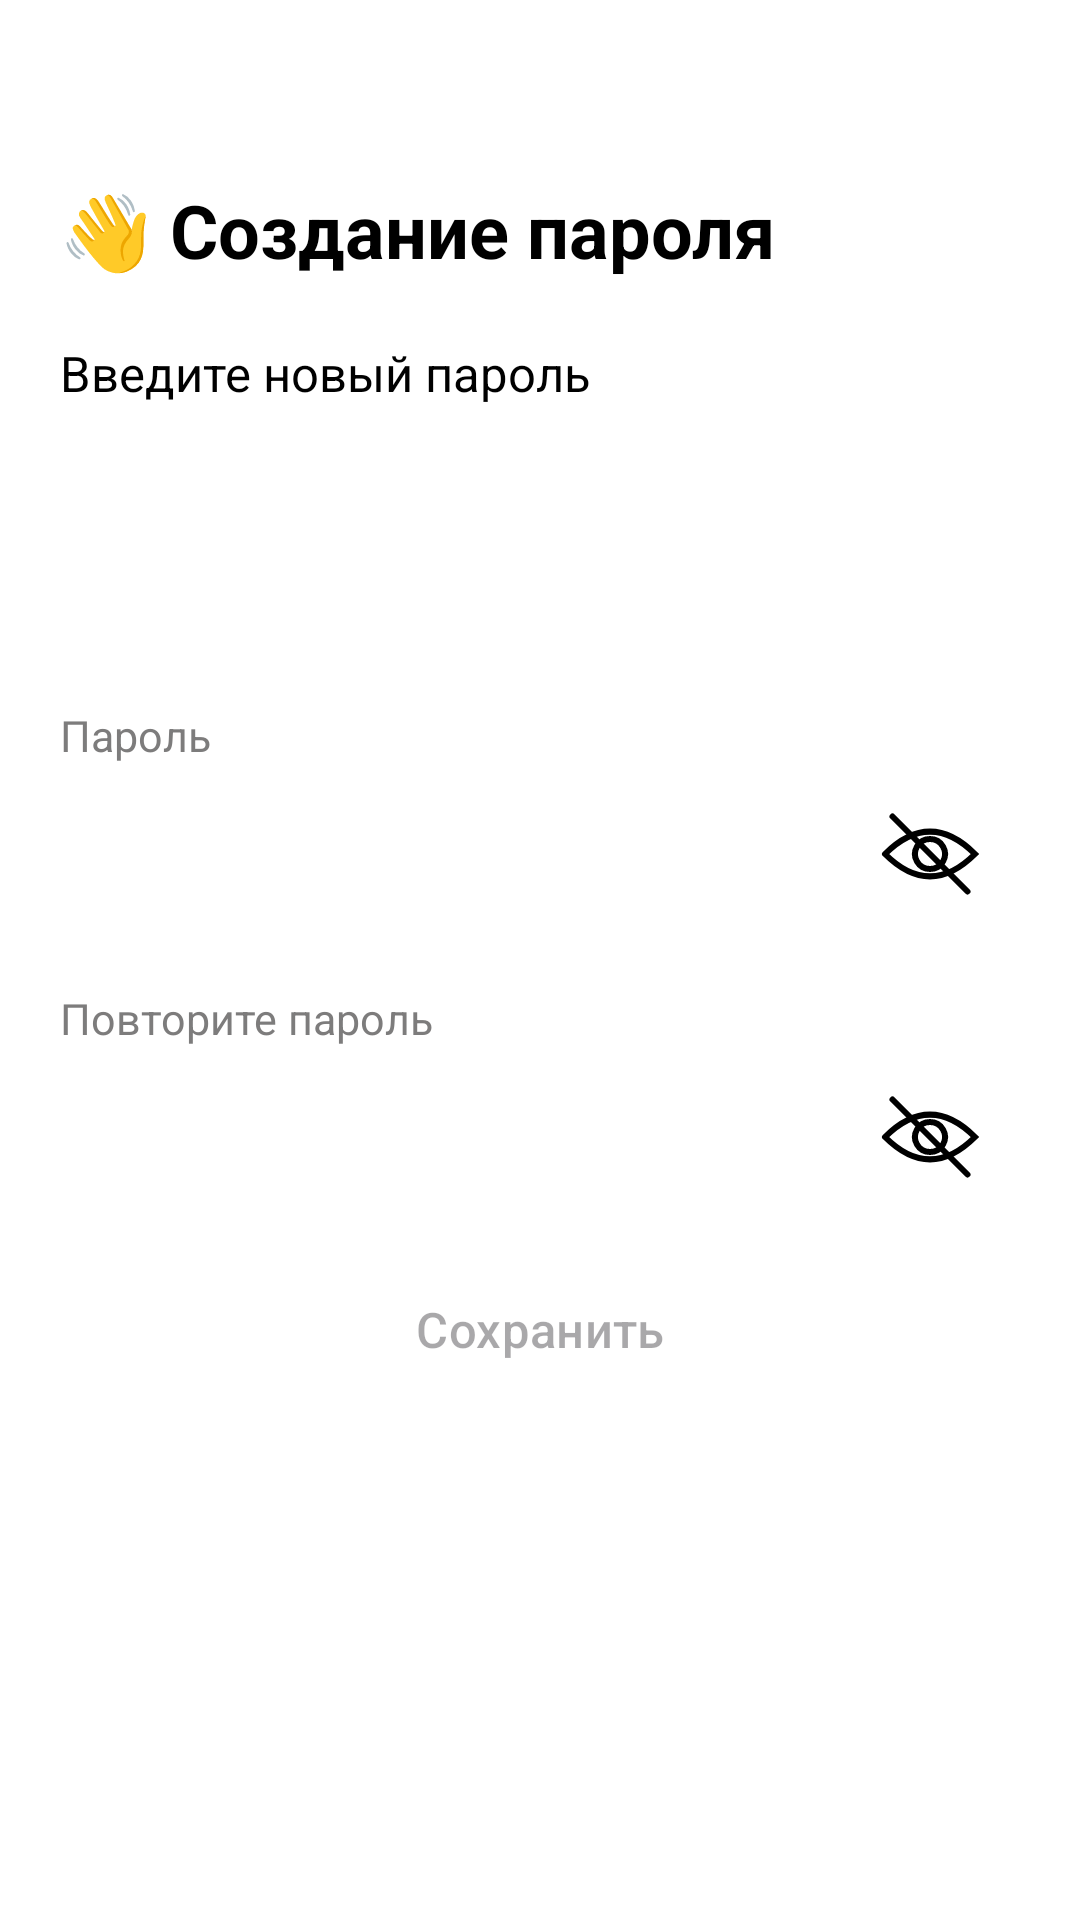

Icons on this 1080px×1920px Android screen, each with its box as bbox=[x1, y1, x2, y2]:
closed eye: bbox=[882, 813, 979, 895], bbox=[882, 1096, 979, 1178]
